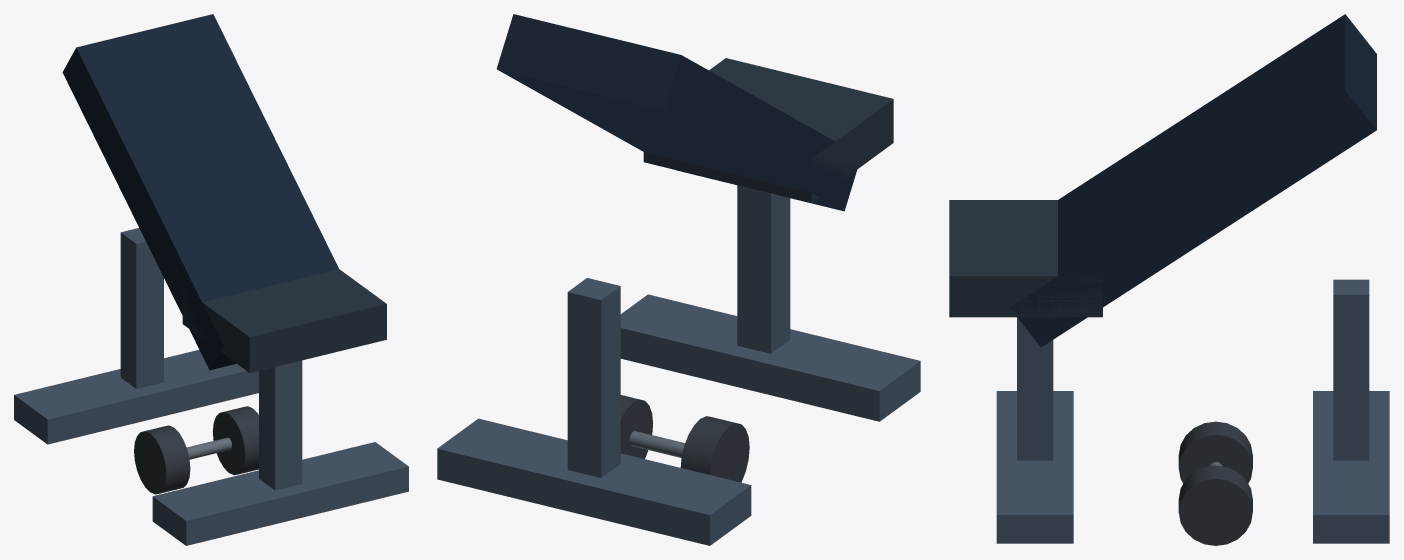
The model's file is dumbbell_incline.glb.
The picture shows the model from 3 angles, left to right: view 1: azimuth 30°, elevation 25°; view 2: azimuth 150°, elevation 25°; view 3: azimuth 270°, elevation 25°; orthographic projection. The views are drawn at different scales.
Parts seen in each view (by area): view 1: seat, benchFoot (×2), seatPad, benchLeg (×2), Ldumbbell; view 2: benchFoot (×2), seat, benchLeg (×2), seatPad, Ldumbbell; view 3: seat, benchFoot (×2), seatPad, benchLeg (×2), Ldumbbell.
Boxes of the visible parts, x1=… form: seat: x1=62, y1=14, x2=338, y2=370; benchFoot (×2): x1=14, y1=350, x2=408, y2=545; seatPad: x1=182, y1=269, x2=386, y2=372; benchLeg (×2): x1=120, y1=228, x2=302, y2=490; Ldumbbell: x1=134, y1=406, x2=258, y2=494; benchFoot (×2): x1=437, y1=294, x2=920, y2=545; seat: x1=496, y1=14, x2=859, y2=211; benchLeg (×2): x1=567, y1=185, x2=790, y2=477; seatPad: x1=643, y1=58, x2=893, y2=202; Ldumbbell: x1=620, y1=395, x2=749, y2=482; seat: x1=1010, y1=14, x2=1376, y2=347; benchFoot (×2): x1=996, y1=391, x2=1389, y2=543; seatPad: x1=949, y1=200, x2=1102, y2=317; benchLeg (×2): x1=1017, y1=279, x2=1369, y2=460; Ldumbbell: x1=1178, y1=421, x2=1252, y2=545.
Size of the model in its own units: 0.65 by 1.14 by 0.975.
